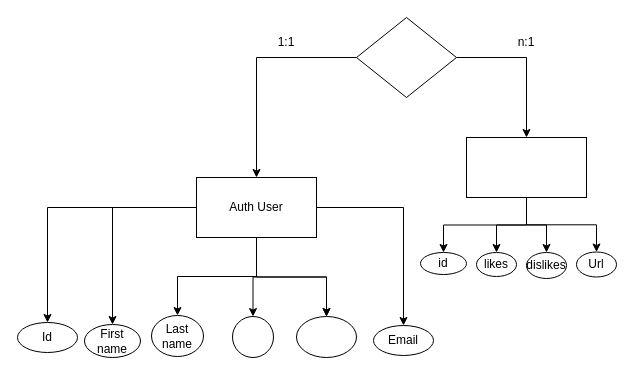
The diagram is 634 pixels wide and 375 high, and some of its shapes have lost their labels. Each missing label, with the box of its shape:
Data Resource: (466, 136, 586, 198)
Like: (356, 16, 456, 98)
Password: (296, 316, 356, 358)
User: (232, 316, 274, 358)
